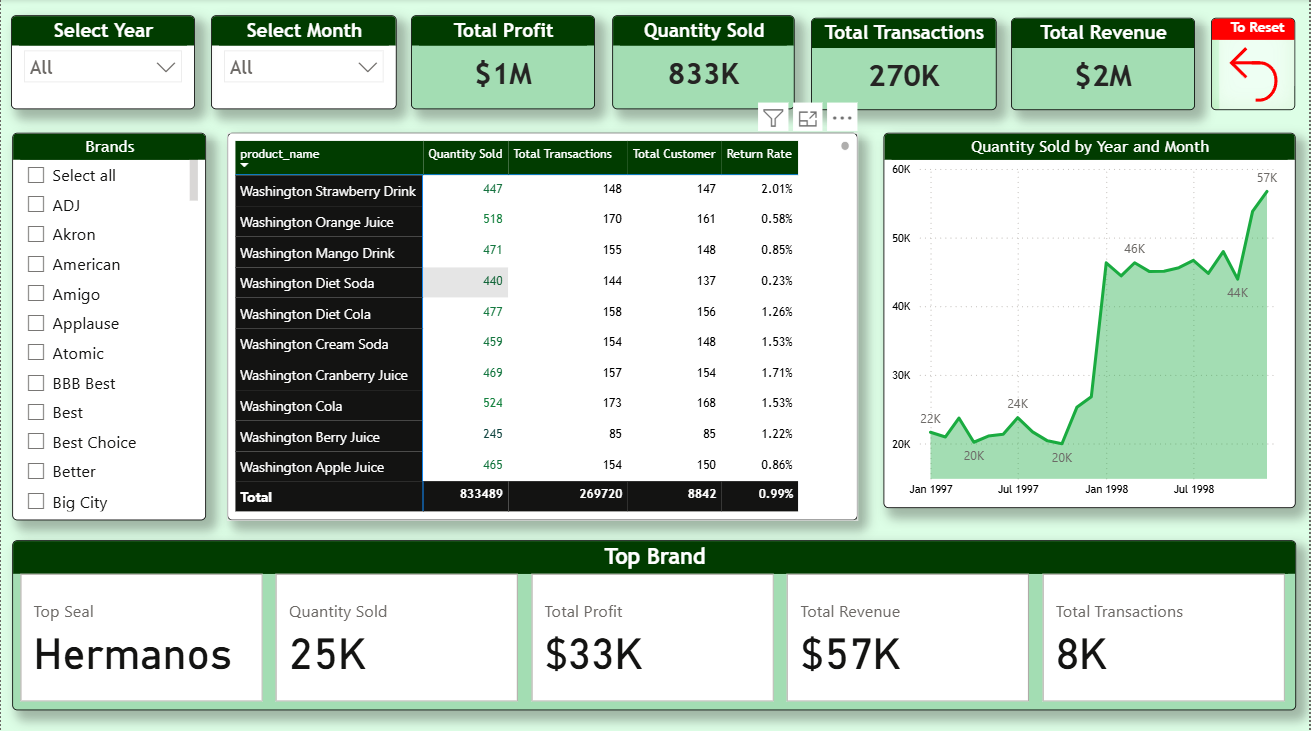

Layout of this report page (visuals, bound fields, positions):
{"tool":"powerbi","page":{"name":"Products","canvas":[1280,720],"ordinal":4},"visuals":[{"type":"slicer","title":"Brands","fields":{"Values":["Products.product_brand"]},"box":[11.3,131.2,189.4,378.9],"z":0},{"type":"slicer","title":"Select Month","fields":{"Values":["LocalDateTable_c742904d-c3cd-4319-92e8-3b23801fea64.Month"]},"box":[205.6,16.2,181.4,92.3],"z":1000},{"type":"card","title":"Quantity Sold","fields":{"Values":["Measure Table.Quantity Sold"]},"box":[597.5,16.2,178.1,92.3],"z":2000},{"type":"card","title":"Total Revenue","fields":{"Values":["Measure Table.Total Revenue"]},"box":[987.7,17.8,179.7,90.7],"z":3000},{"type":"card","title":"Total Transactions","fields":{"Values":["Measure Table.Total Transactions"]},"box":[791.8,17.8,181.4,90.7],"z":4000},{"type":"cardVisual","title":"Top Brand","fields":{"Data":["Min(Products.product_brand)","Measure Table.Quantity Sold","Measure Table.Total Profit","Measure Table.Total Revenue","Measure Table.Total Transactions"]},"box":[10.5,529,1256.1,166.5],"z":5000},{"type":"card","title":"Total Profit","fields":{"Values":["Measure Table.Total Profit"]},"box":[401.6,16.2,179.7,92.3],"z":6000},{"type":"pivotTable","fields":{"Rows":["Products.product_name"],"Values":["Measure Table.Quantity Sold","Measure Table.Total Transactions","Measure Table.Total Customer","Measure Table.Return Rate"]},"box":[221.8,131.2,616.9,378.9],"z":7000},{"type":"slicer","title":"Select Year","fields":{"Values":["Calendar.Year"]},"box":[9.7,16.2,179.7,92.3],"z":8000},{"type":"areaChart","fields":{"Category":["Calendar.Start of Month.Variation.Date Hierarchy.Year","Calendar.Start of Month.Variation.Date Hierarchy.Month"],"Y":["Measure Table.Quantity Sold"]},"box":[863,131.2,403.2,367.6],"z":9000},{"type":"actionButton","title":"To Reset","box":[1183.7,17.8,82.6,90.7],"z":10000}]}

Visuals, with their boxes in screenshot pixels (x1, y1, x2, y2), scaled from the page's 1280x720 canvas onto the 1311x731 screenshot:
"Brands" slicer: 12:133:206:518
"Select Month" slicer: 211:16:396:110
"Quantity Sold" card: 612:16:794:110
"Total Revenue" card: 1012:18:1196:110
"Total Transactions" card: 811:18:997:110
"Top Brand" cardVisual: 11:537:1297:706
"Total Profit" card: 411:16:595:110
pivotTable - Products.product_name x Measure Table.Quantity Sold: 227:133:859:518
"Select Year" slicer: 10:16:194:110
areaChart - Calendar.Start of Month.Variation.Date Hierarchy.Year x Calendar.Start of Month.Variation.Date Hierarchy.Month: 884:133:1297:506
"To Reset" actionButton: 1212:18:1297:110
